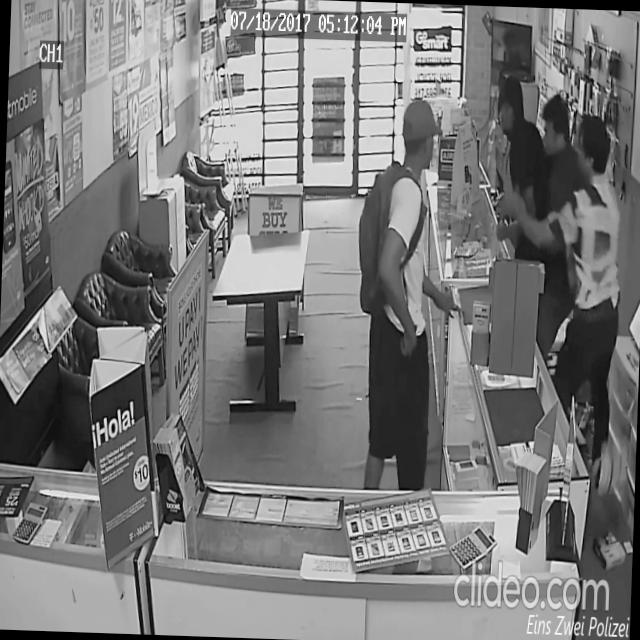gun: (396, 328, 420, 395)
person: (492, 107, 628, 501), (496, 88, 598, 413), (478, 68, 569, 384)
person with a gun: (349, 91, 471, 492)
